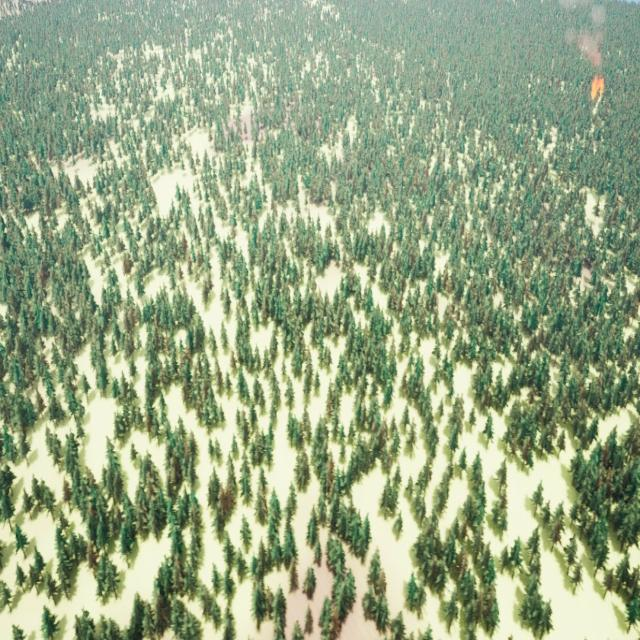fire: (591, 74, 606, 103)
smoke: (562, 0, 605, 77)
